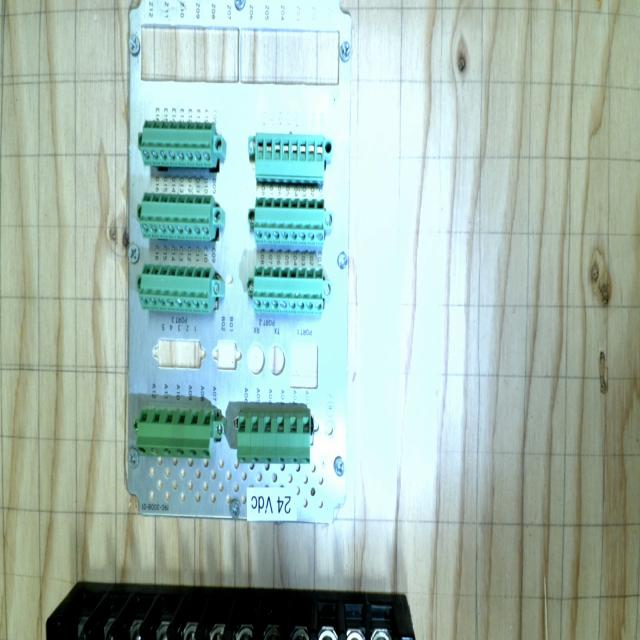Terminal_1: (136, 409, 213, 459), (237, 414, 311, 464)
Terminal_2: (138, 264, 212, 314), (253, 196, 325, 246), (139, 192, 212, 241), (140, 120, 214, 168), (252, 266, 324, 315)
